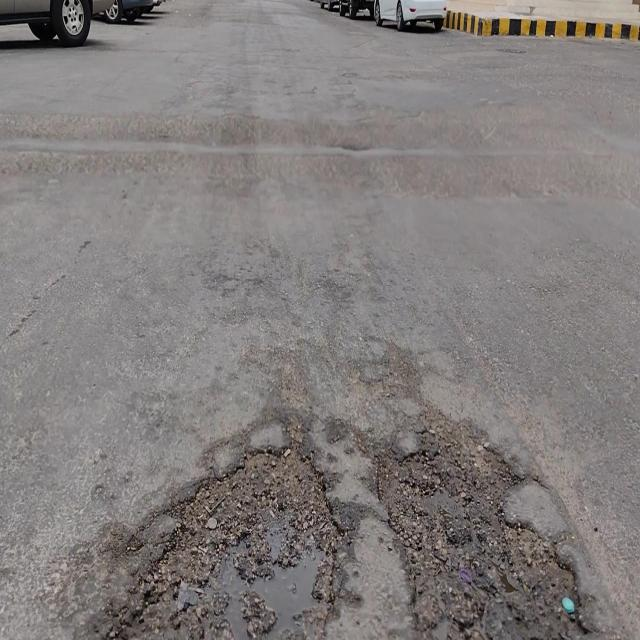Pothole: (374, 412, 593, 638), (111, 443, 343, 640)
